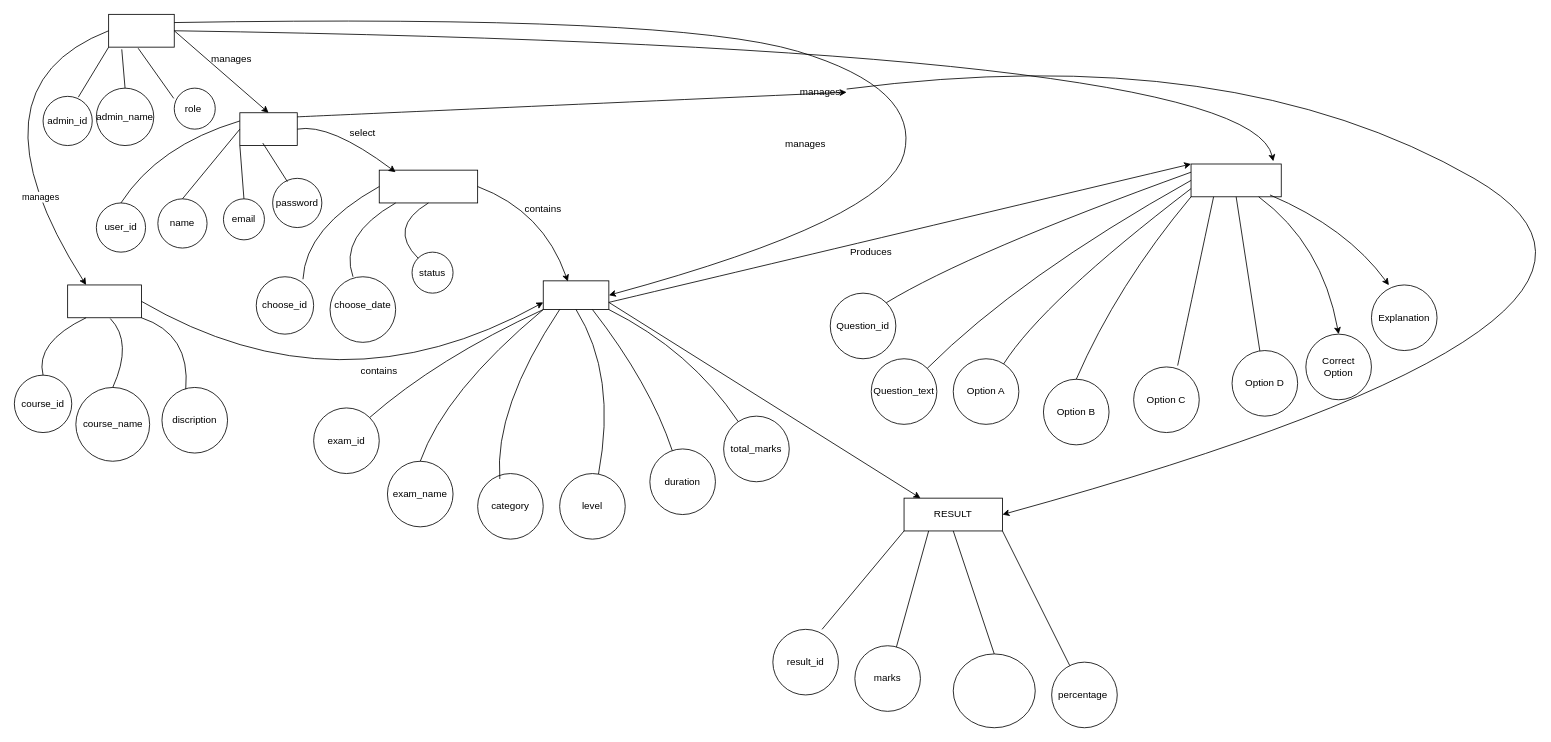
Image size: 1551x742. Some labels were removed from this diagram. Here are the shapes that lost their labels. From the top down, the box of each, then its label:
(108, 14, 174, 47): ADMIN
(239, 112, 297, 146): USER
(378, 169, 478, 203): CHOOSE_EXAM
(1190, 163, 1281, 197): QUESTION
(67, 284, 141, 318): courses
(542, 280, 609, 310): EXAM
(952, 653, 1035, 728): Submission_time
